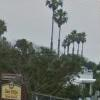Palm tree: (45, 1, 87, 60)
